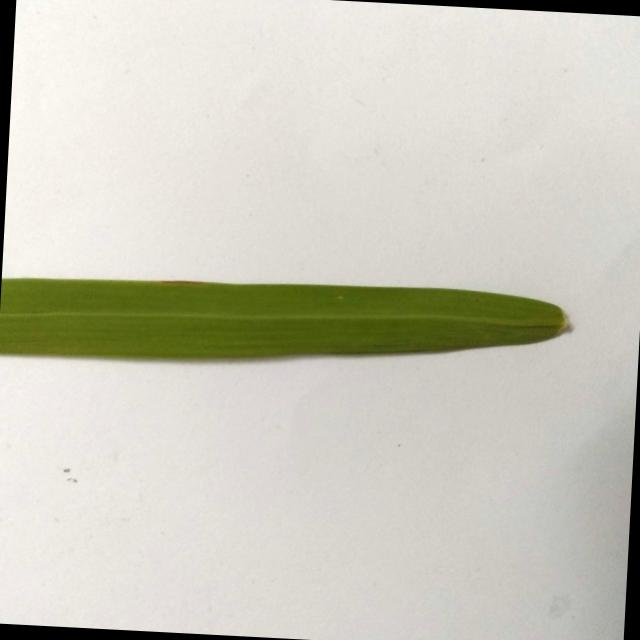Rice_Healthy: (0, 279, 568, 359)
